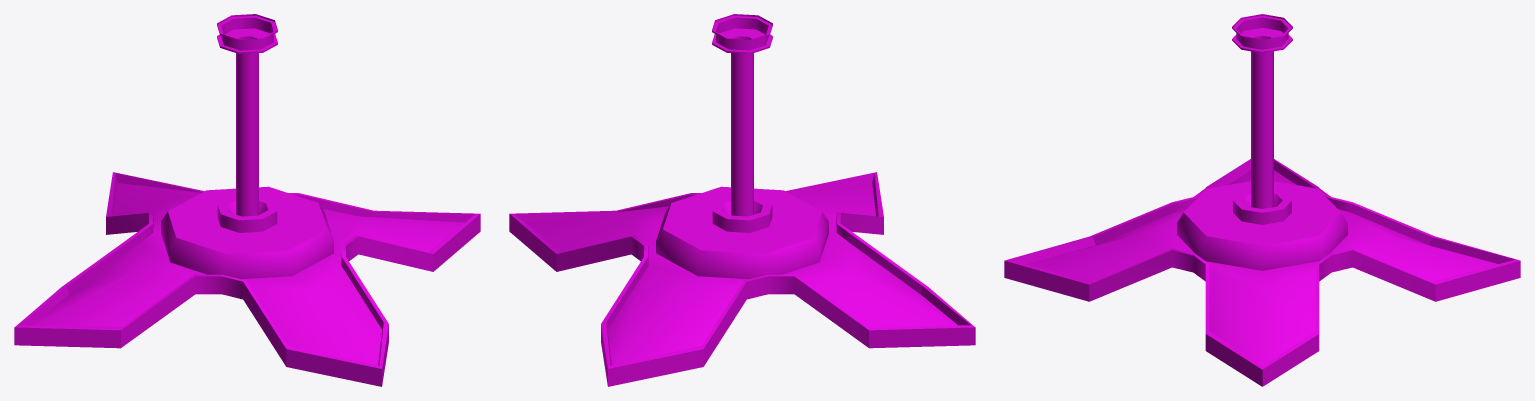
The model's file is newstand.fbx.
The picture shows the model from 3 angles, left to right: view 1: azimuth 30°, elevation 25°; view 2: azimuth 150°, elevation 25°; view 3: azimuth 270°, elevation 25°; orthographic projection. The views are drawn at different scales.
Visible parts, largest first — view 1: Turret_stand; view 2: Turret_stand; view 3: Turret_stand.
Part boxes in pixels (x1,y1,x2,y2): Turret_stand: [14, 14, 480, 386]; Turret_stand: [509, 14, 975, 386]; Turret_stand: [1004, 14, 1520, 386].
Bounding box in the file's own units: 1.36 × 0.7301 × 1.36.
